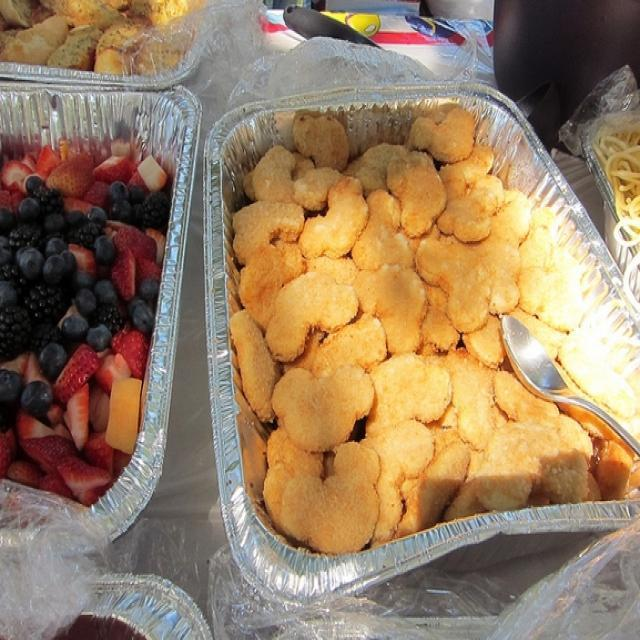Chicken nugget: (204, 110, 639, 589)
Mushroom: (32, 356, 108, 495)
